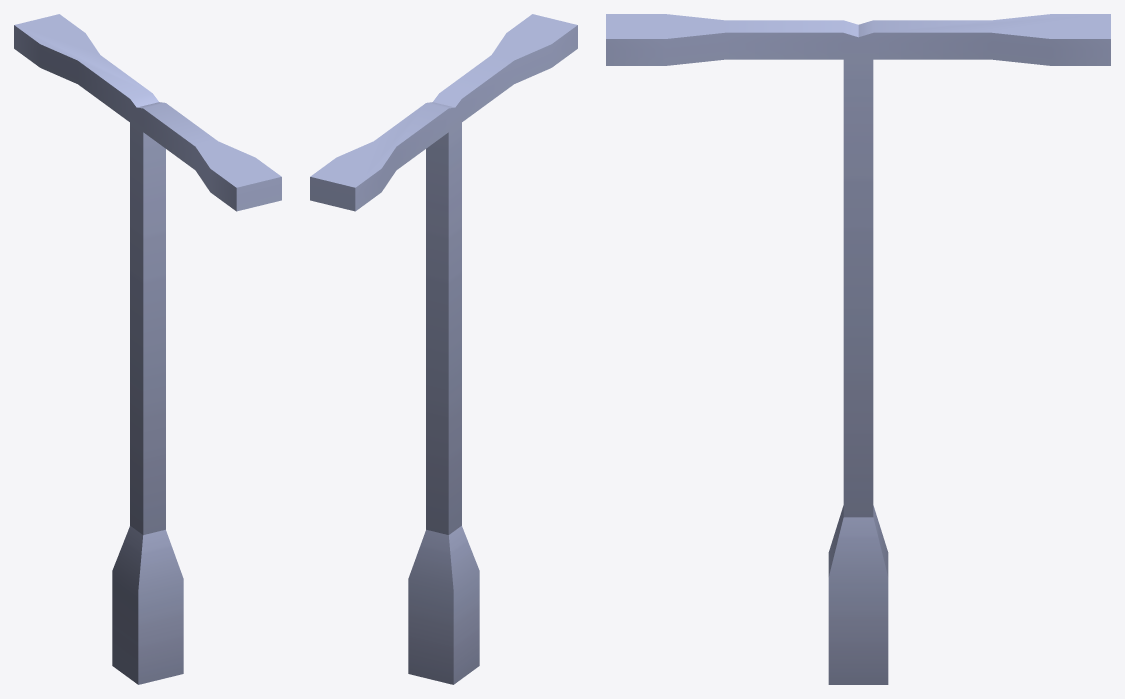
The model's file is street_light_double.glb.
3 views of the same model, side by side, from view 1: azimuth 30°, elevation 25°; view 2: azimuth 150°, elevation 25°; view 3: azimuth 270°, elevation 25° (orthographic). The views are drawn at different scales.
Visible parts, largest first — view 1: light-square-double; view 2: light-square-double; view 3: light-square-double.
Boxes of the visible parts, bbox=[...] form: light-square-double: bbox=[14, 14, 281, 684]; light-square-double: bbox=[310, 14, 577, 684]; light-square-double: bbox=[606, 14, 1110, 684].
Size of the model in its own units: 0.4002 by 4.8 by 3.4.
1 material, 1 textured.
